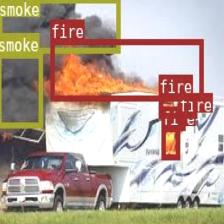fire: (50, 39, 202, 100), (158, 93, 196, 117), (161, 125, 179, 158), (178, 112, 184, 129)
smoke: (0, 0, 119, 52), (0, 51, 41, 126)
